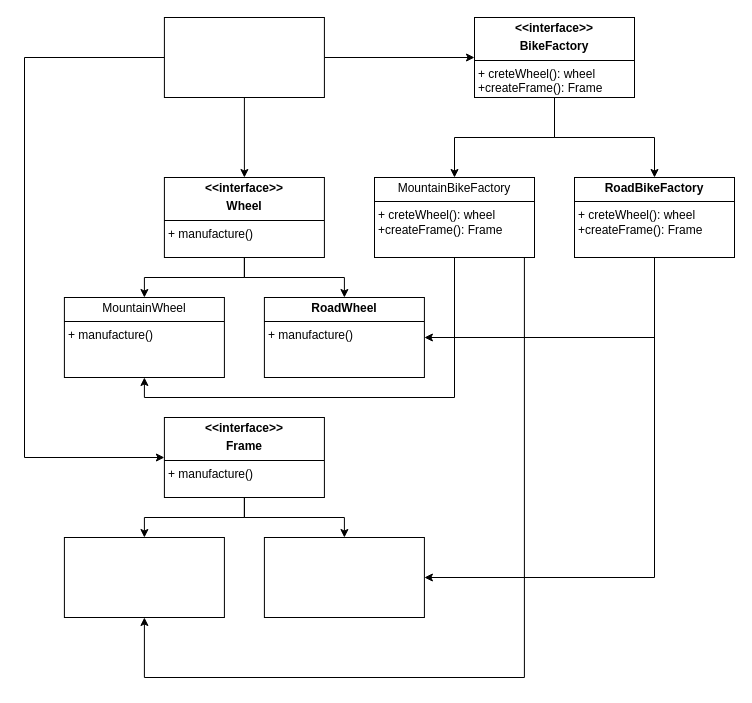
Some shapes in this 752 by 703 pixel diagram are drawn without their labels. Here are the shapes that lost their labels. From the top down, the centre of each, then its label:
At point 243,57: "BikeBuiler + main()".
At point 143,577: "MountainFrame + manufacture()".
At point 343,577: "RoadFrame + manufacture()".
